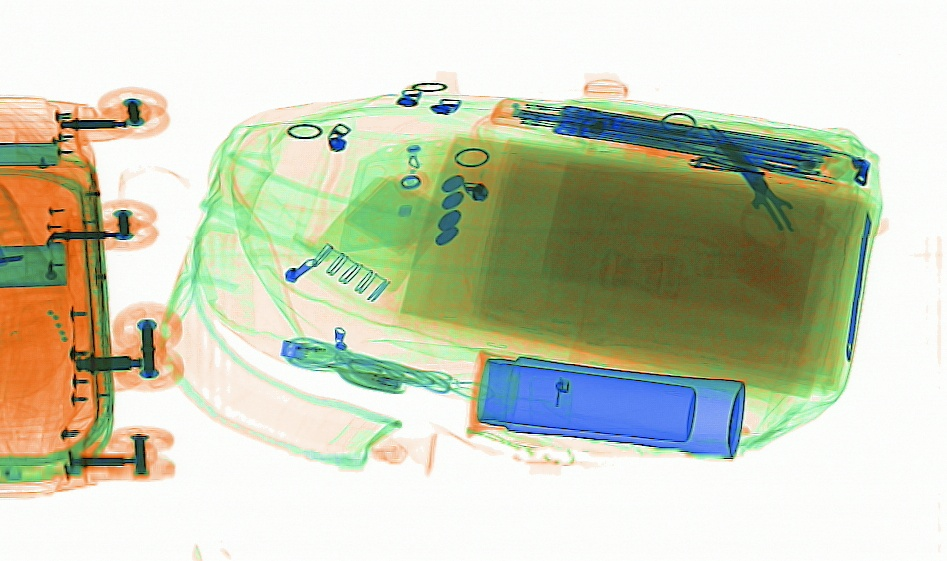knife: (843, 210, 872, 362)
scissors: (700, 122, 835, 255)
